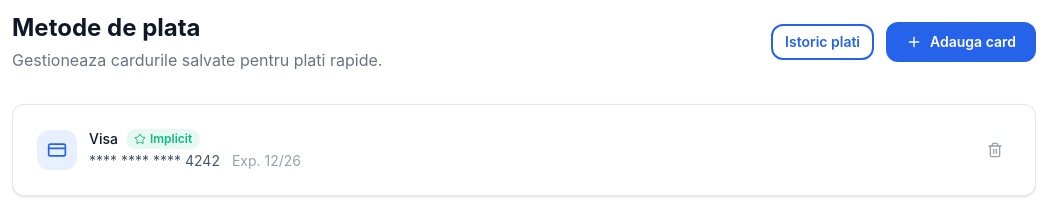
it: PaymentMethodsPage › shows delete confirmation overlay on delete button click
// Click the delete button (Trash icon button with title "Sterge")
Click the button titled "Sterge".
click(995, 150)  # box 979,134 -> 1011,166
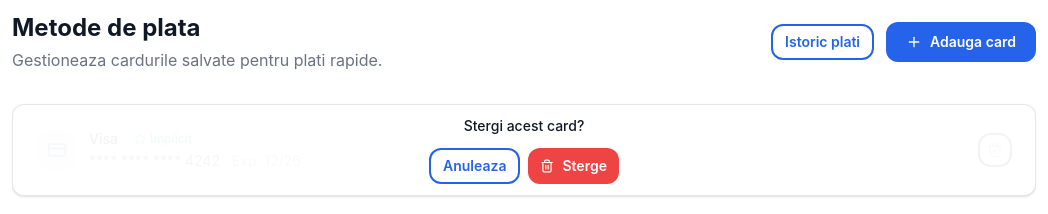
Now the text "Stergi acest card?" is shown, box 464,117 -> 584,134
Now the button "Anuleaza" is shown, box 429,148 -> 520,184
